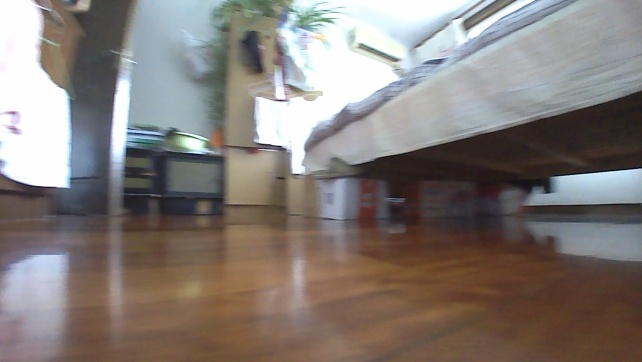bed1: (300, 0, 641, 221)
